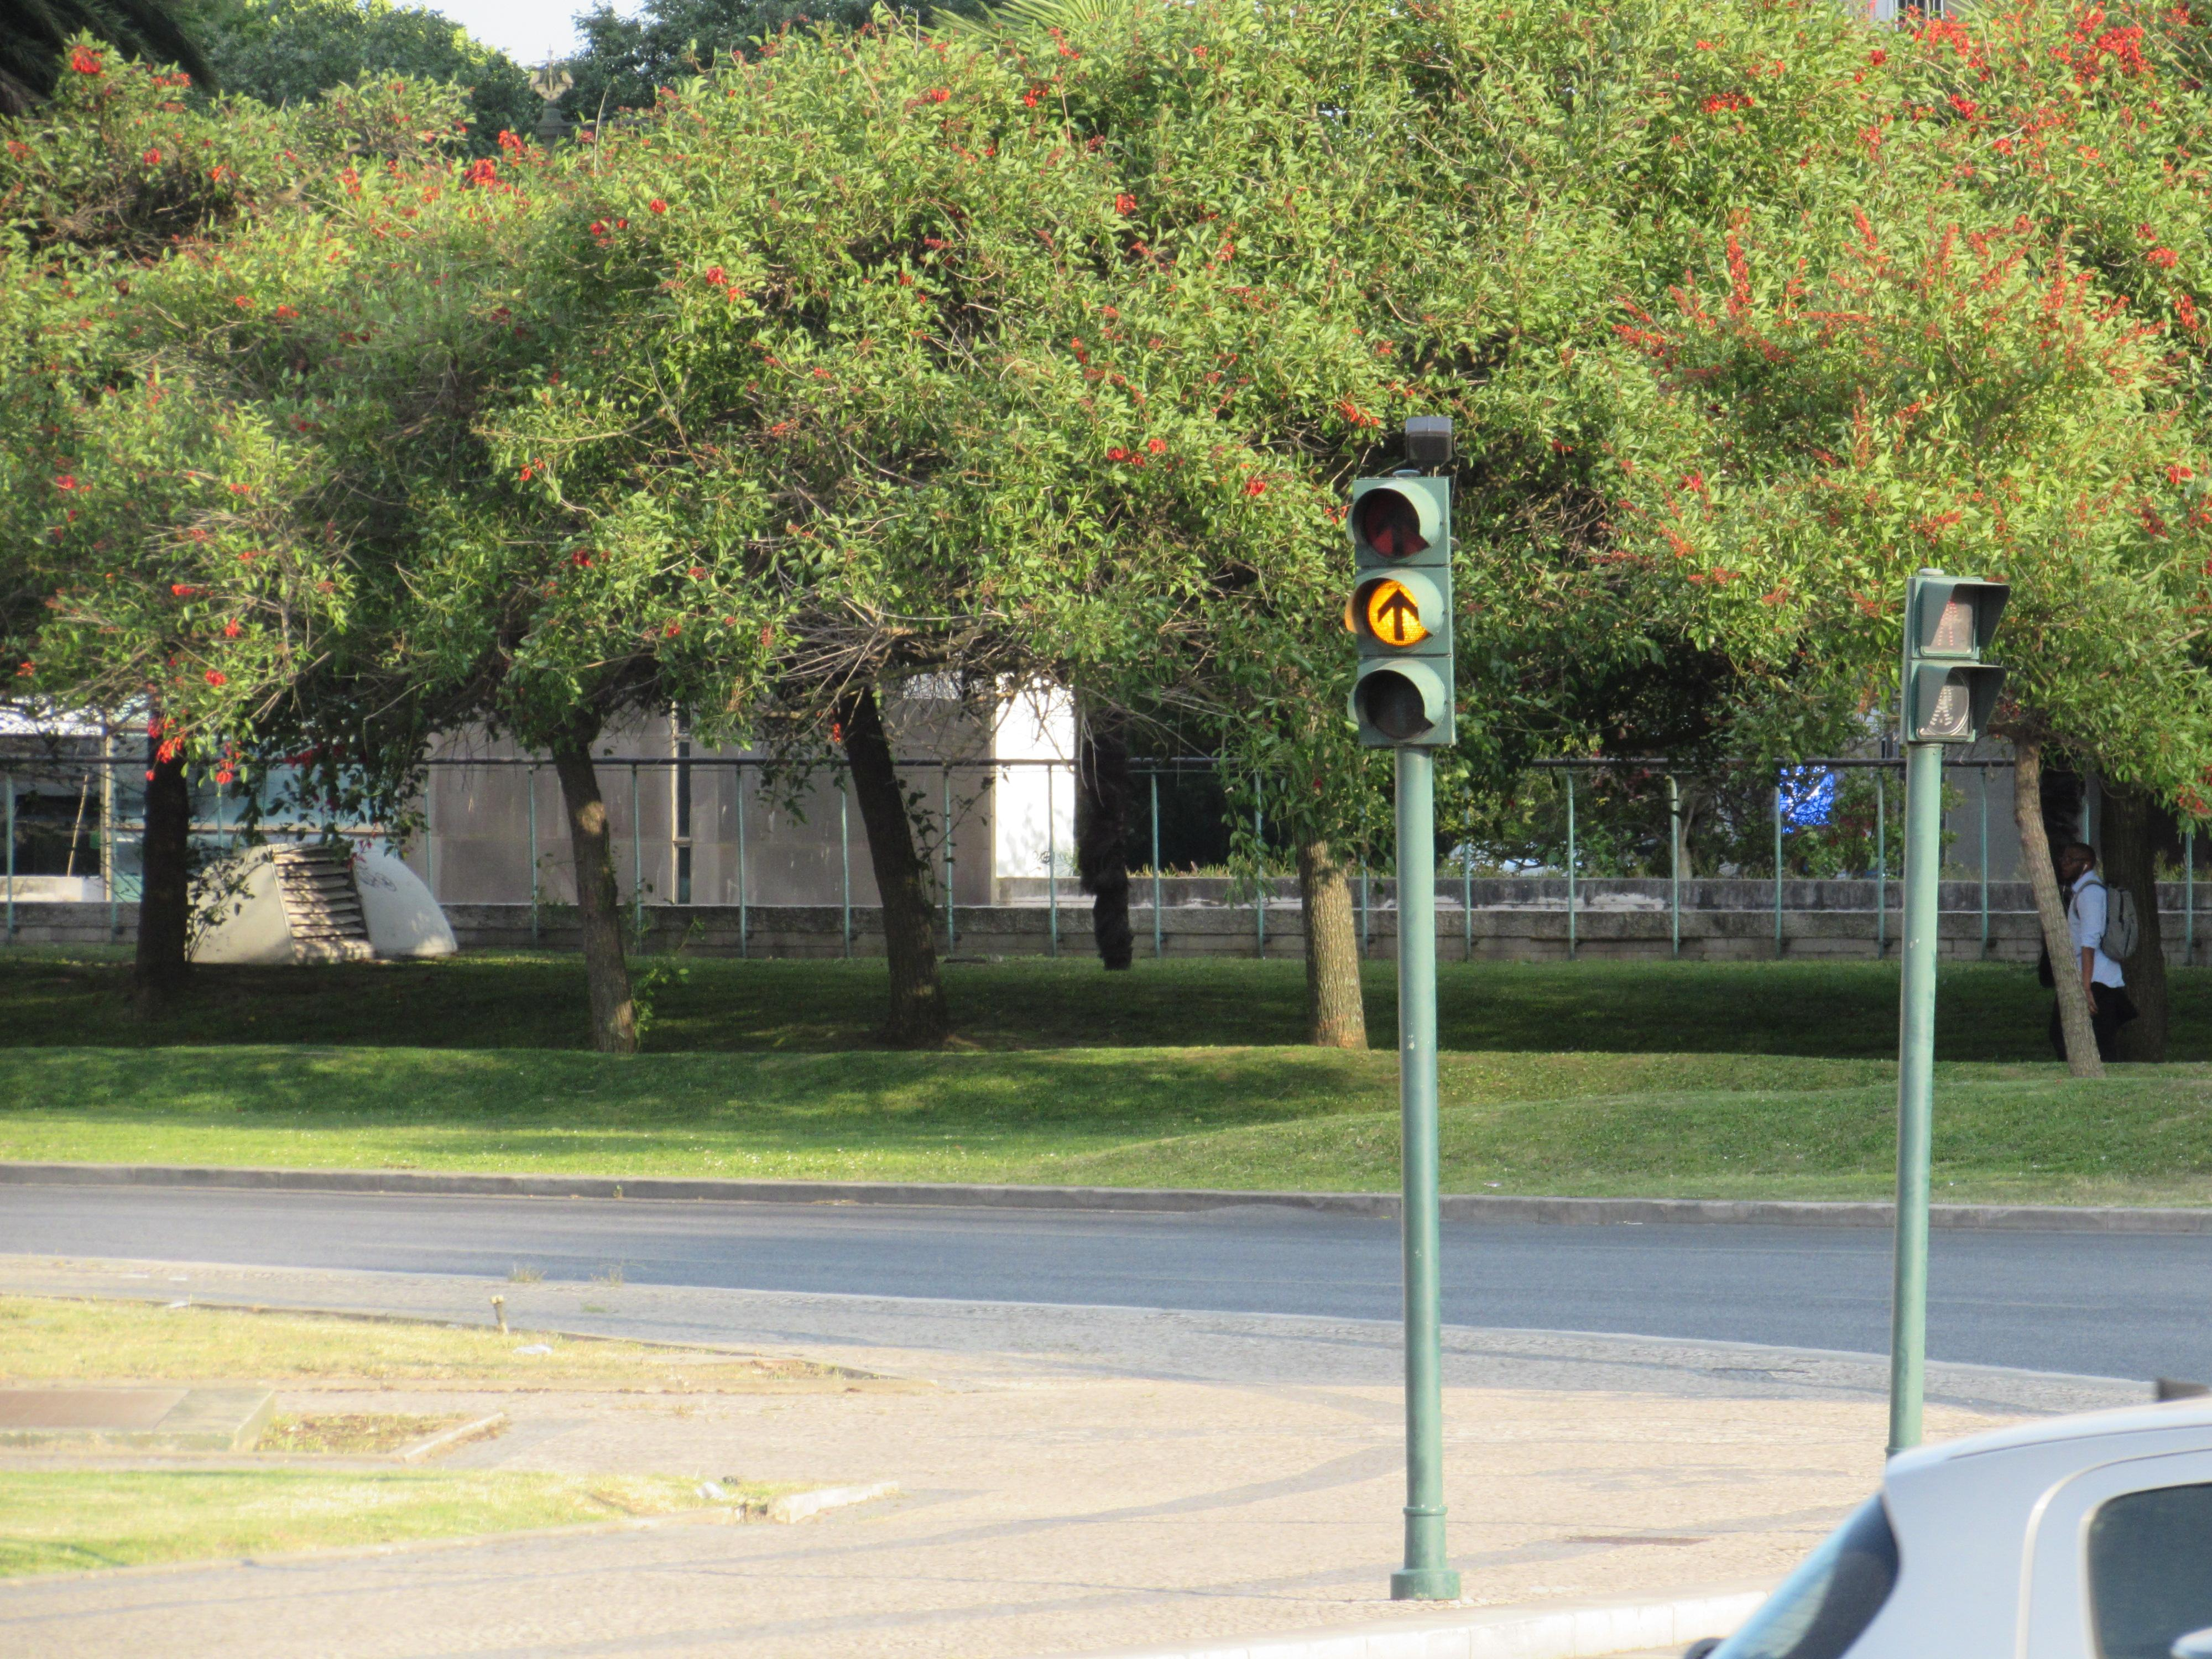yellow_light: (1345, 477, 1456, 746)
